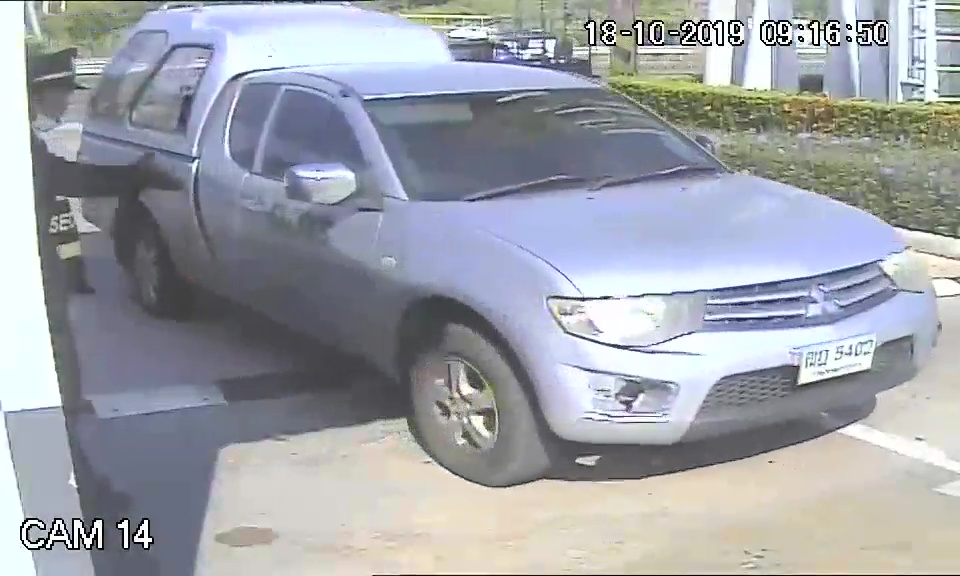pickup: (80, 8, 941, 487)
